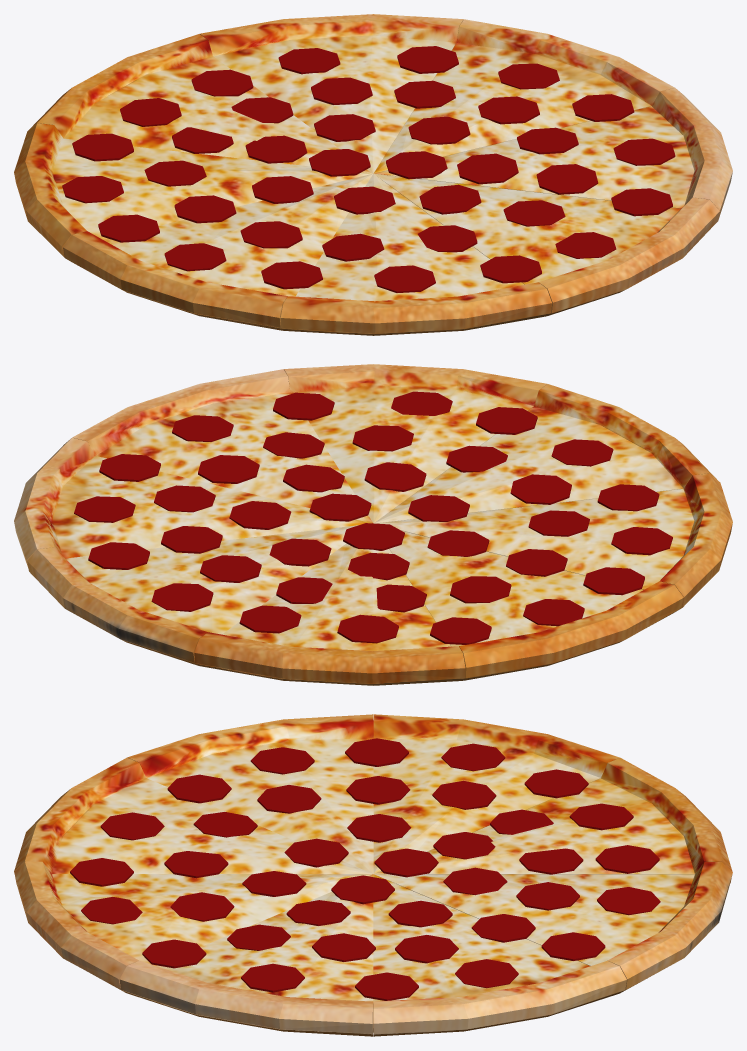
File: Pepperoni pizza.glb
3 views of the same model, one above another, from view 1: azimuth 30°, elevation 25°; view 2: azimuth 150°, elevation 25°; view 3: azimuth 270°, elevation 25° (orthographic).
Parts seen in each view (by area): view 1: Node; view 2: Node; view 3: Node.
Boxes of the visible parts, x1,y1,x2,y2 form: Node: (14, 14, 732, 335); Node: (14, 364, 732, 685); Node: (14, 714, 732, 1036).
Bounding box in the file's own units: 1.94 × 0.0897 × 1.94.
2 materials, 1 textured.
